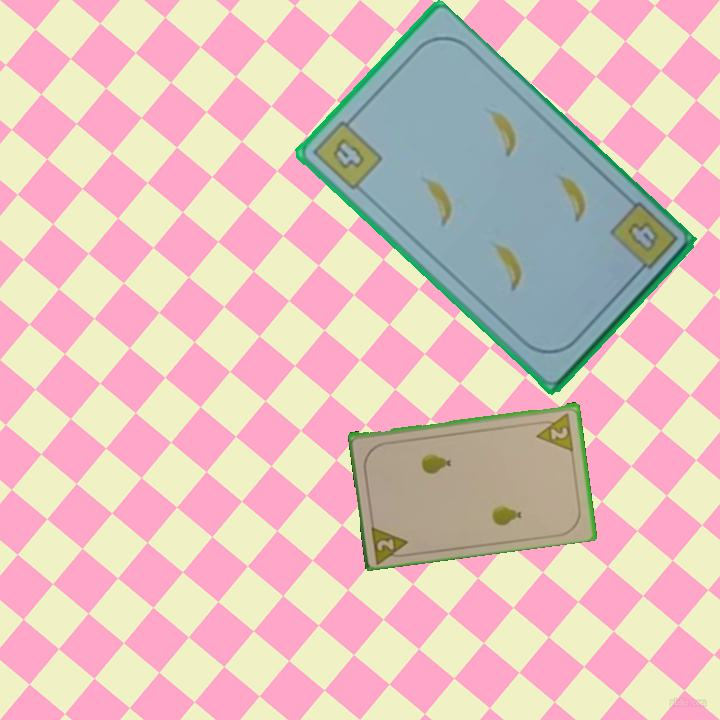2p: (368, 520, 413, 564), (532, 409, 576, 452)
4b: (309, 111, 386, 194), (606, 198, 681, 281)
